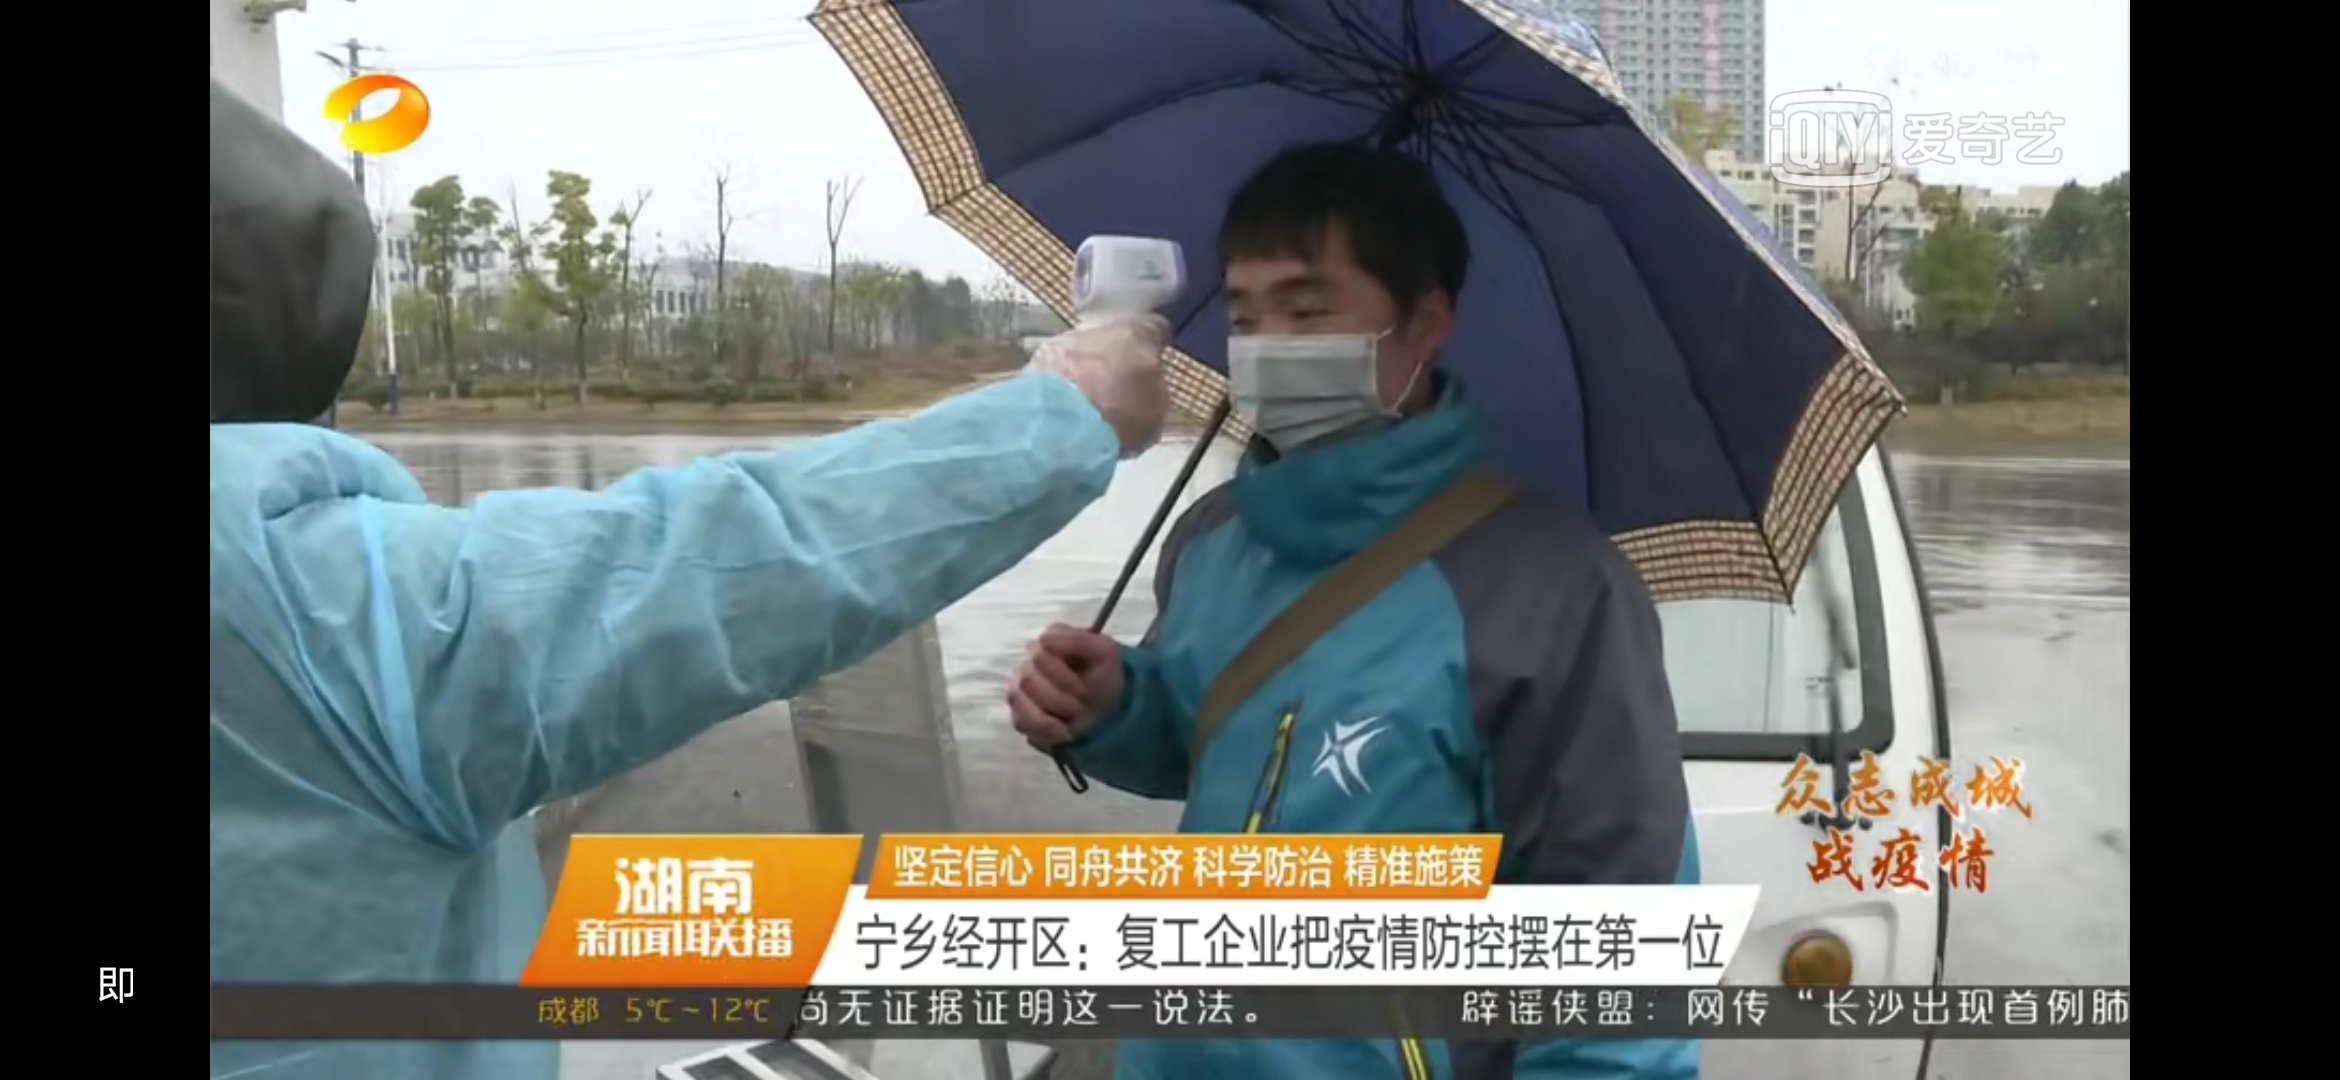correctlyWear: (1216, 251, 1457, 459)
